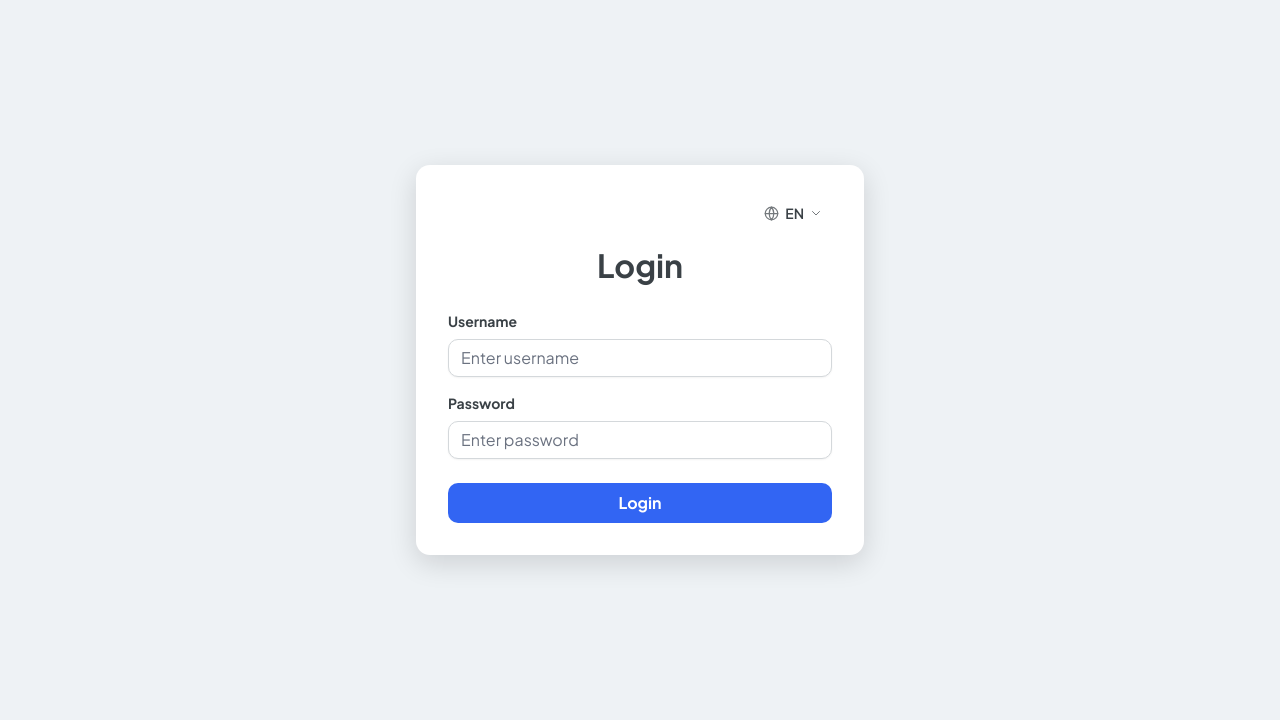
Test case: Login Page › shows loading state during login
This screenshot has width=1280, height=720.
In the field labelled "Username": (640, 358) [448,339,832,377], type "testuser"
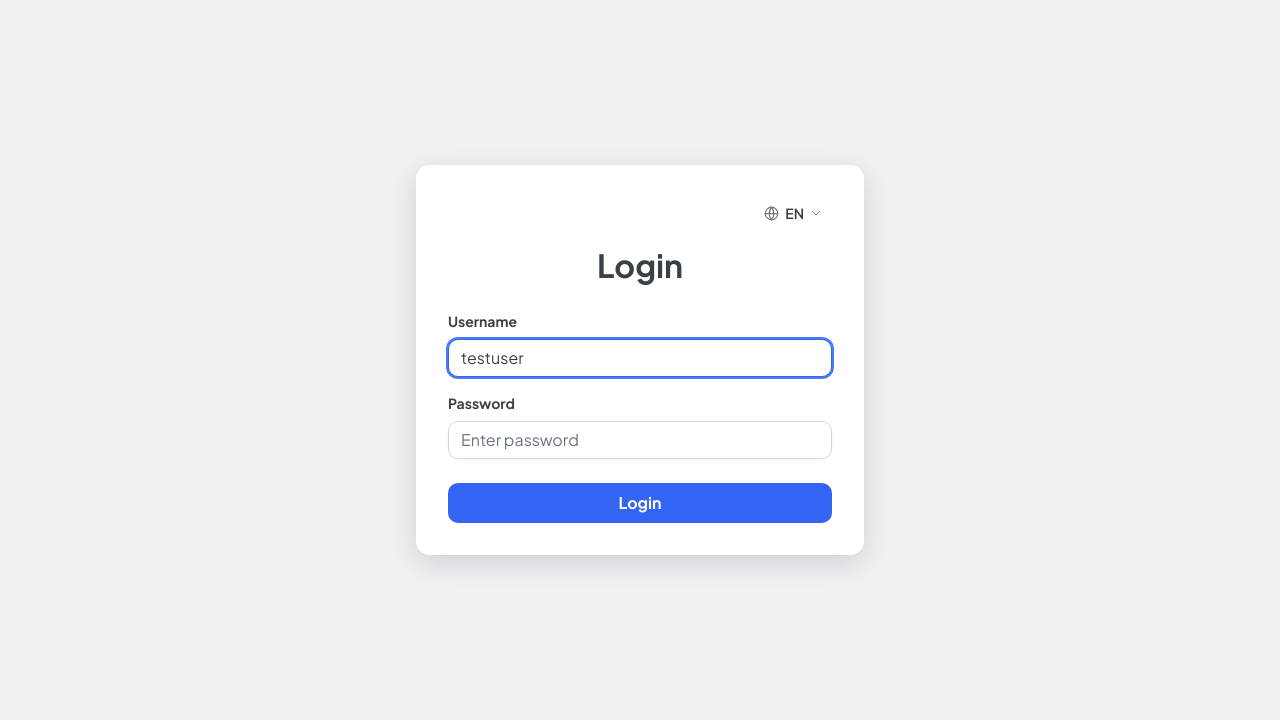
In the password field labelled "Password": (640, 440) [448,421,832,459], type "testpass123"
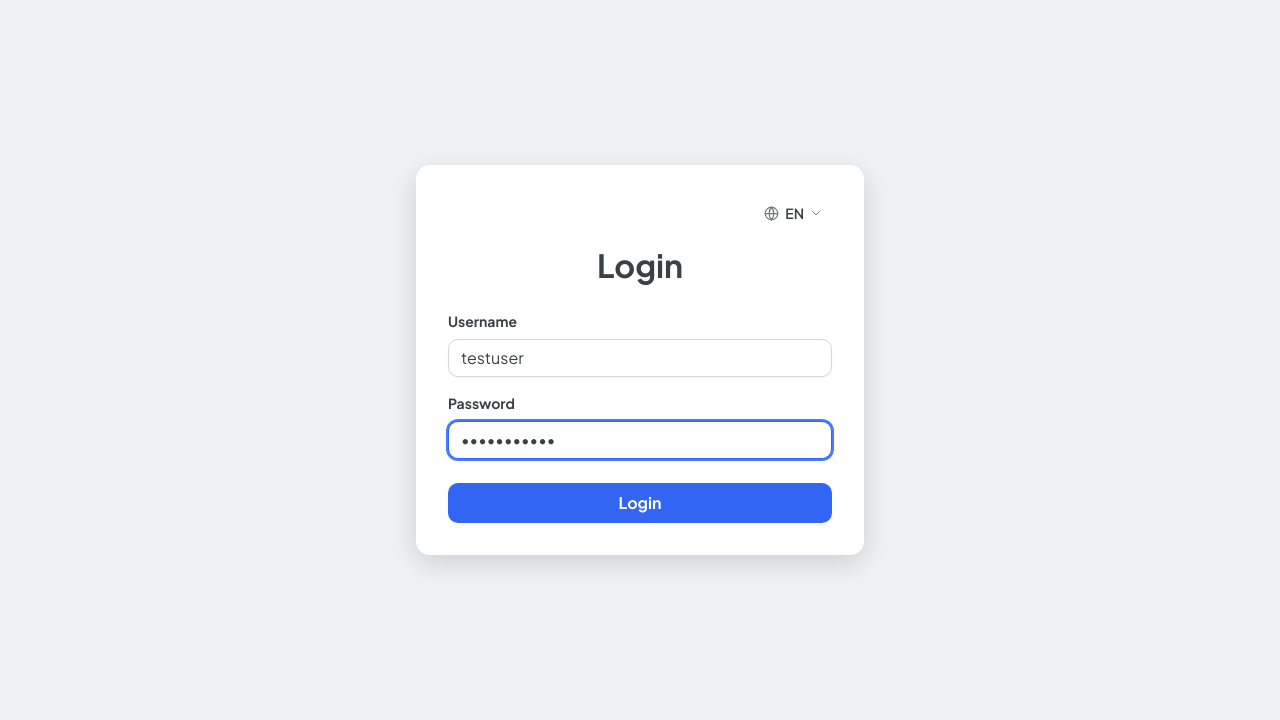
Click the button "Login": (640, 503) [448,483,832,523]
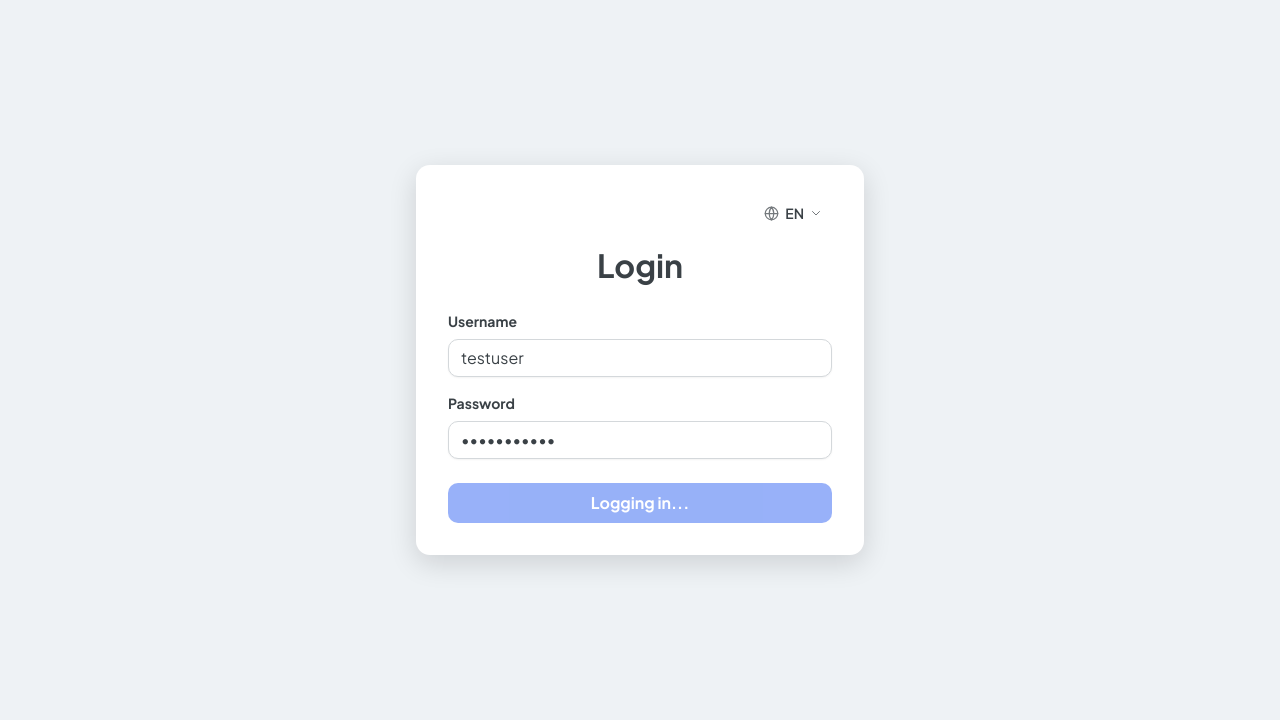
Result: the button "Logging in..." is disabled at [448,483,832,523]
